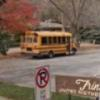buses: (22, 29, 79, 61)
